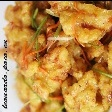guobaorou: (6, 0, 112, 112)
